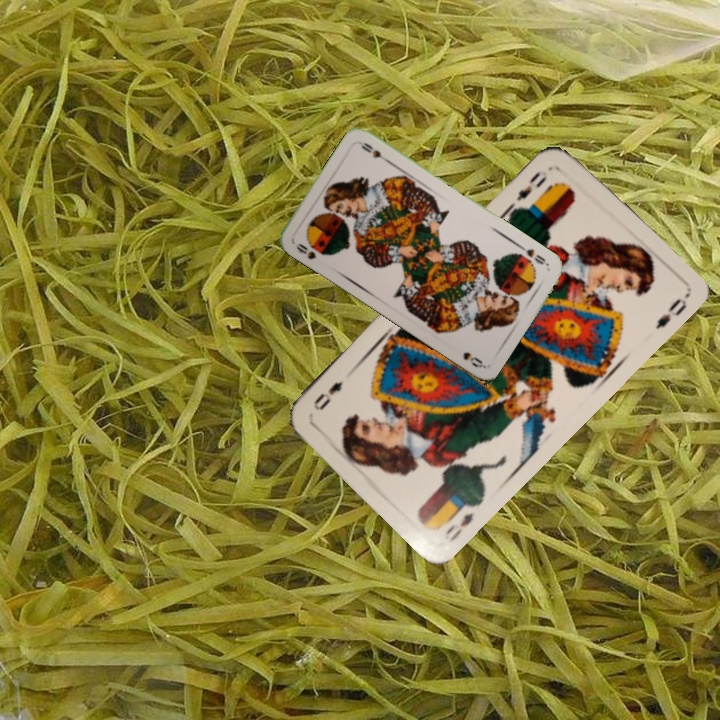EO: (512, 166, 550, 204), (440, 509, 476, 544)
SO: (515, 241, 548, 267), (292, 239, 320, 262)
